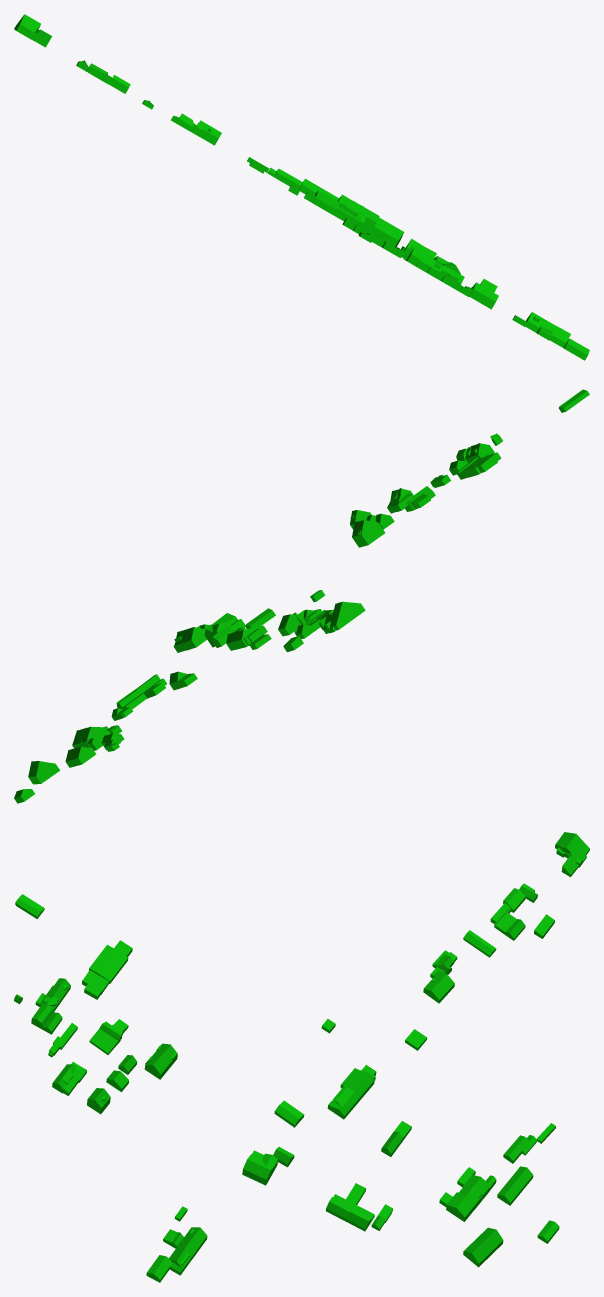
3 views of the same model, one above another, from view 1: azimuth 30°, elevation 25°; view 2: azimuth 150°, elevation 25°; view 3: azimuth 270°, elevation 25° (orthographic). The views are drawn at different scales.
Parts seen in each view (by area): view 1: mesh; view 2: mesh; view 3: mesh.
Part boxes in pixels (x1,y1,x2,y2): mesh: (14, 14, 589, 360); mesh: (14, 389, 589, 803); mesh: (14, 832, 589, 1282).
Bounding box in the file's own units: 191 × 138 × 259.
